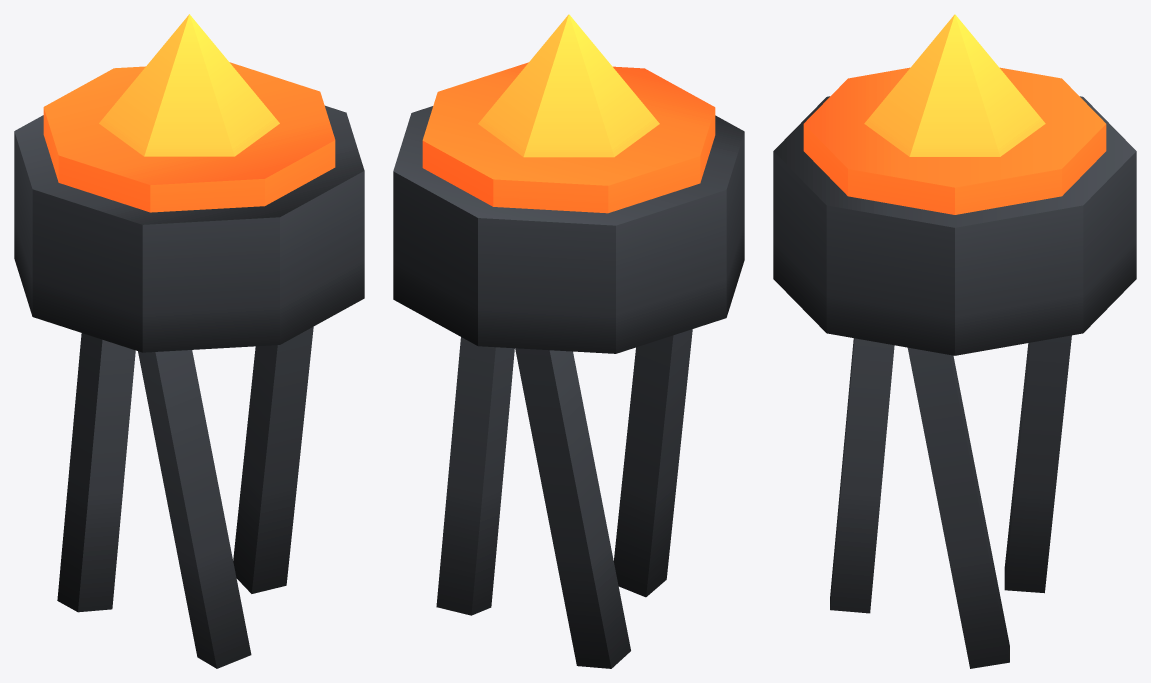
The model's file is brazier.gltf.
3 views of the same model, side by side, from view 1: azimuth 30°, elevation 25°; view 2: azimuth 150°, elevation 25°; view 3: azimuth 270°, elevation 25° (orthographic).
Visible parts, largest first — view 1: brazier; view 2: brazier; view 3: brazier.
Part boxes in pixels (left/top/right/bottom): brazier: left=14, top=14, right=364, bottom=668; brazier: left=393, top=14, right=744, bottom=668; brazier: left=773, top=14, right=1136, bottom=668.
Size of the model in its own units: 0.36 by 0.6617 by 0.36.
1 material, 1 textured.
